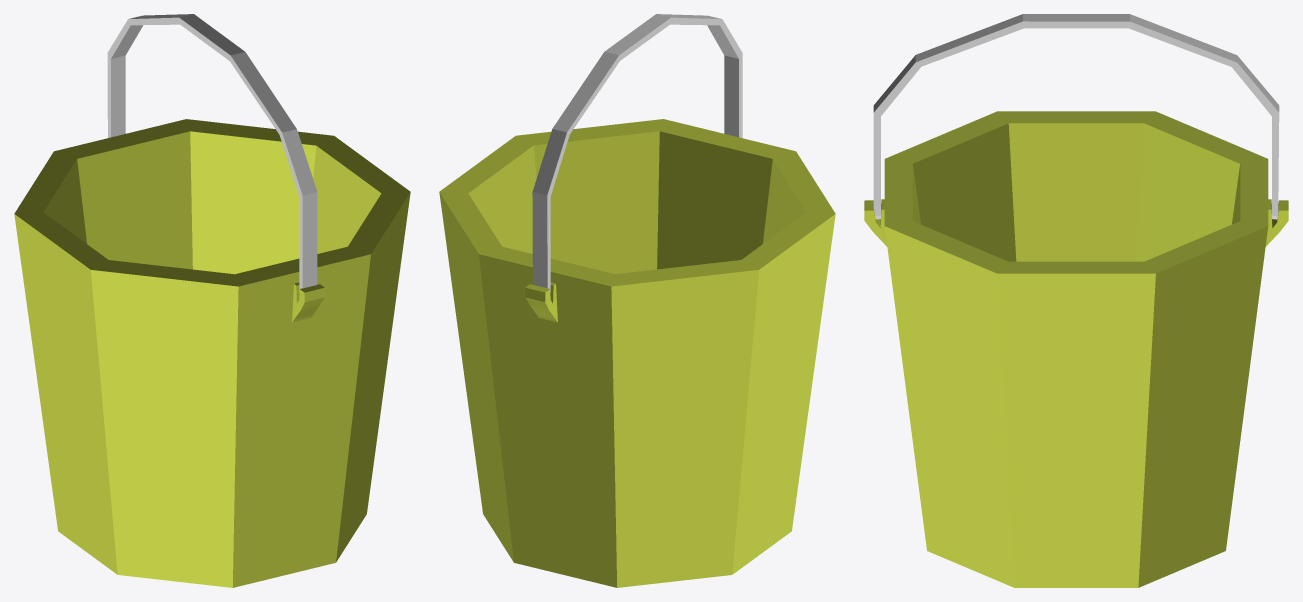
Rendered from Bucket 2.fbx.
3 views of the same model, side by side, from view 1: azimuth 30°, elevation 25°; view 2: azimuth 150°, elevation 25°; view 3: azimuth 270°, elevation 25° (orthographic). The views are drawn at different scales.
Parts seen in each view (by area): view 1: Bucket; view 2: Bucket; view 3: Bucket.
Part boxes in pixels (x1,y1,x2,y2): Bucket: (14, 14, 410, 587); Bucket: (439, 14, 835, 587); Bucket: (864, 14, 1288, 587).
Bounding box in the file's own units: 0.6839 × 0.9012 × 0.6182.
